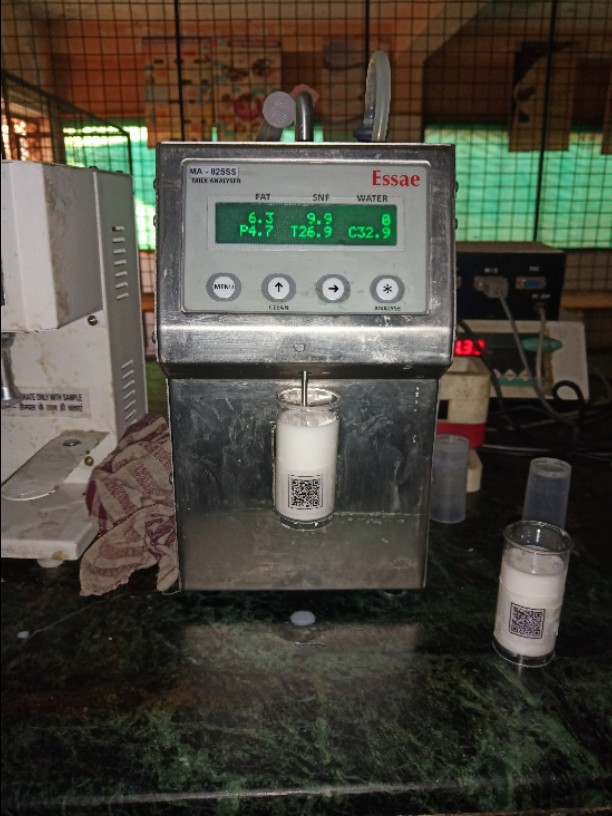lcd: (212, 200, 401, 252), (214, 200, 399, 250), (286, 472, 326, 514)
qr: (504, 600, 551, 642), (289, 474, 325, 509)
